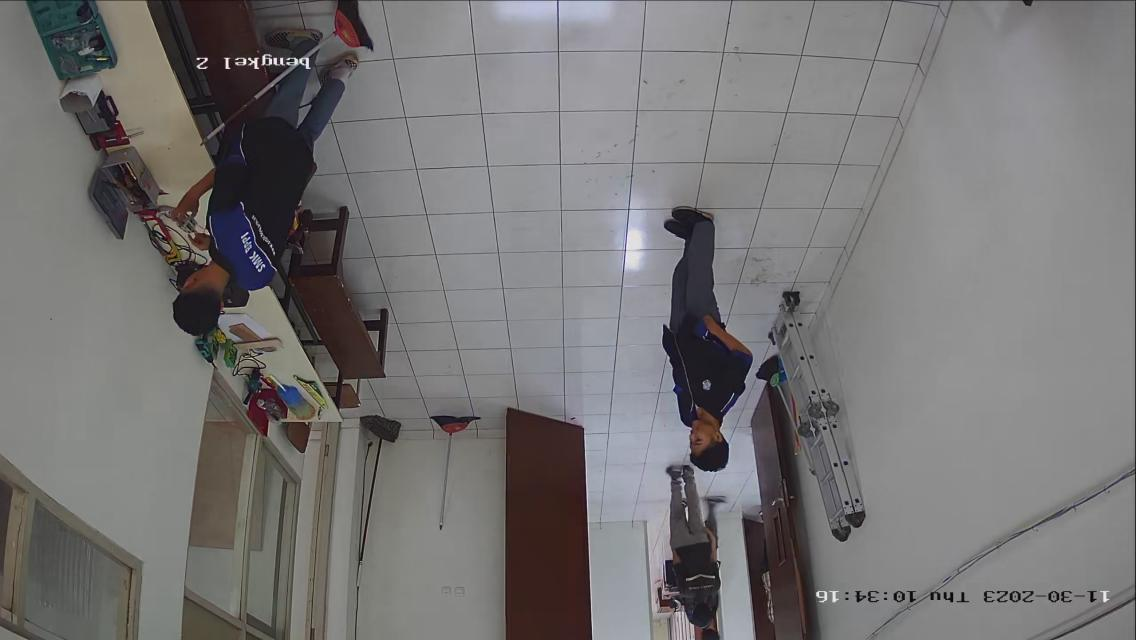Person-Crowd: (658, 206, 751, 474), (652, 459, 736, 635)
